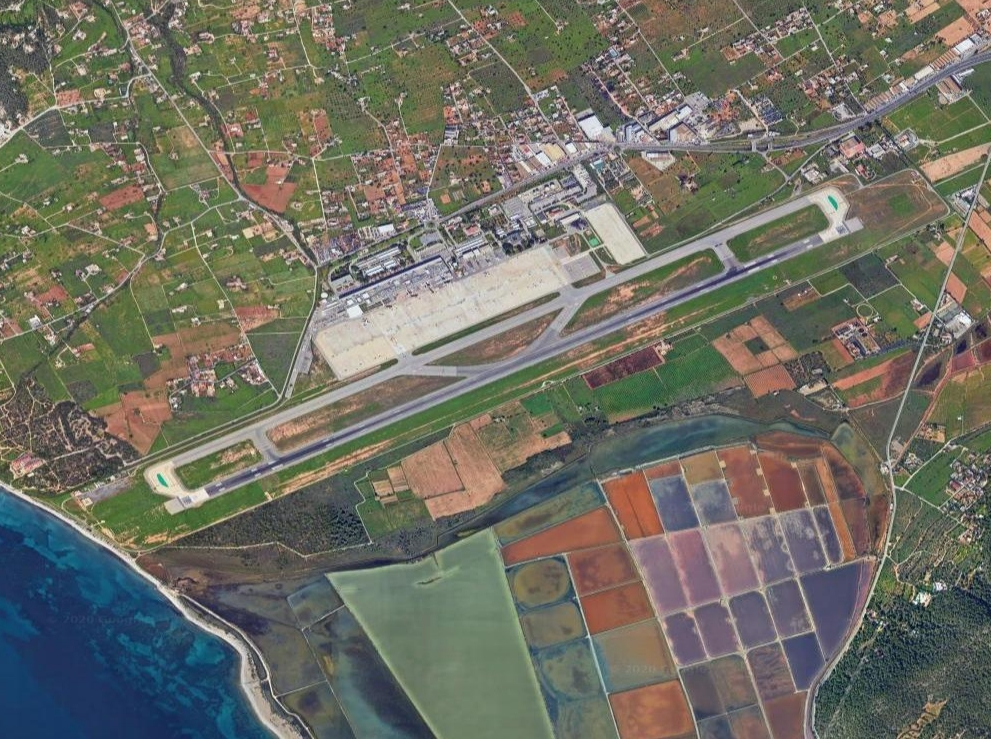airport: (142, 183, 868, 517)
motorway: (568, 104, 692, 162), (436, 134, 572, 173)
